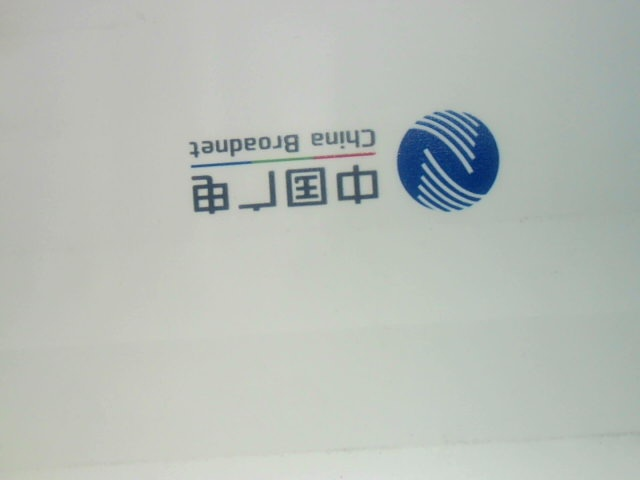AW_ChinaBroadNet: (169, 87, 504, 222)
